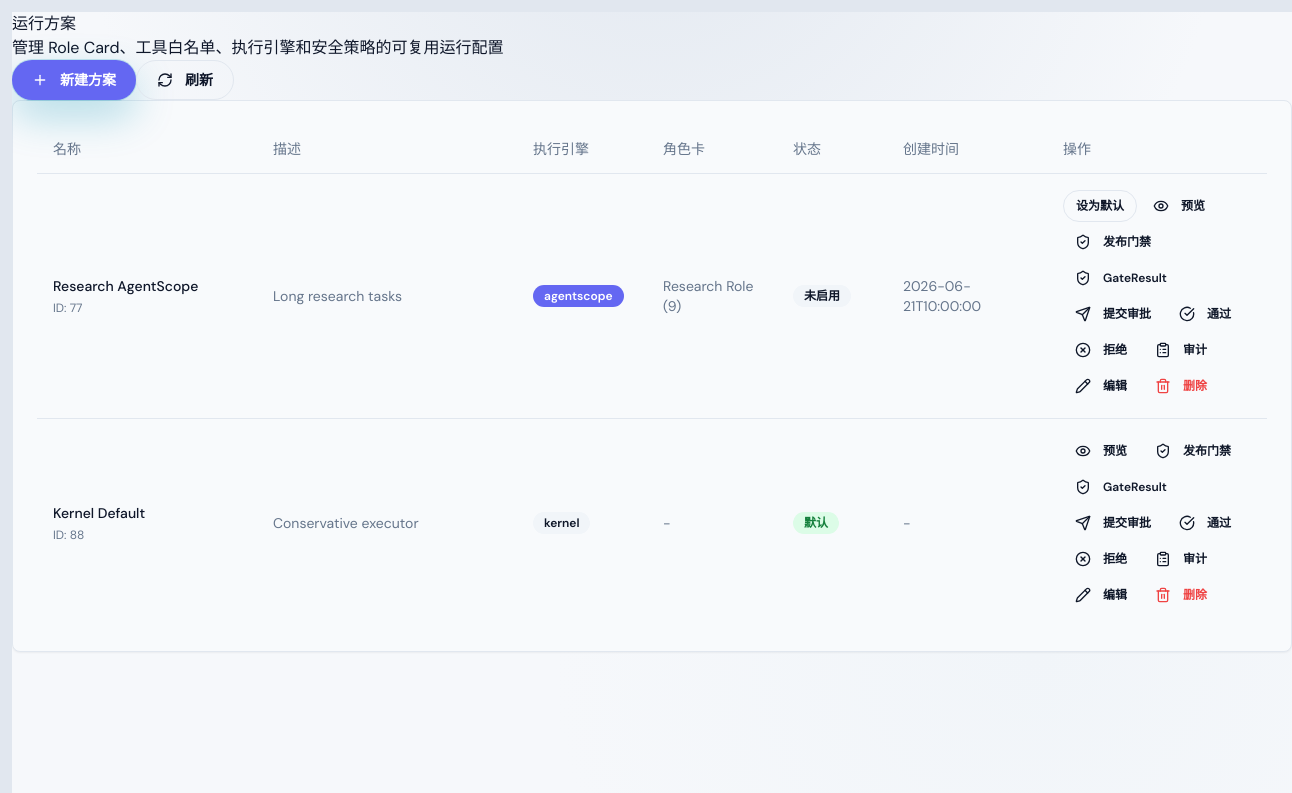
Test: RunProfilePage › runs governance approval actions and loads audit summary
Expected: the text "Research AgentScope" is shown, x1=53 y1=276 x2=198 y2=296
Click the button with aria-label "submit-approval-77": click(1113, 314) x1=1063 y1=298 x2=1163 y2=330
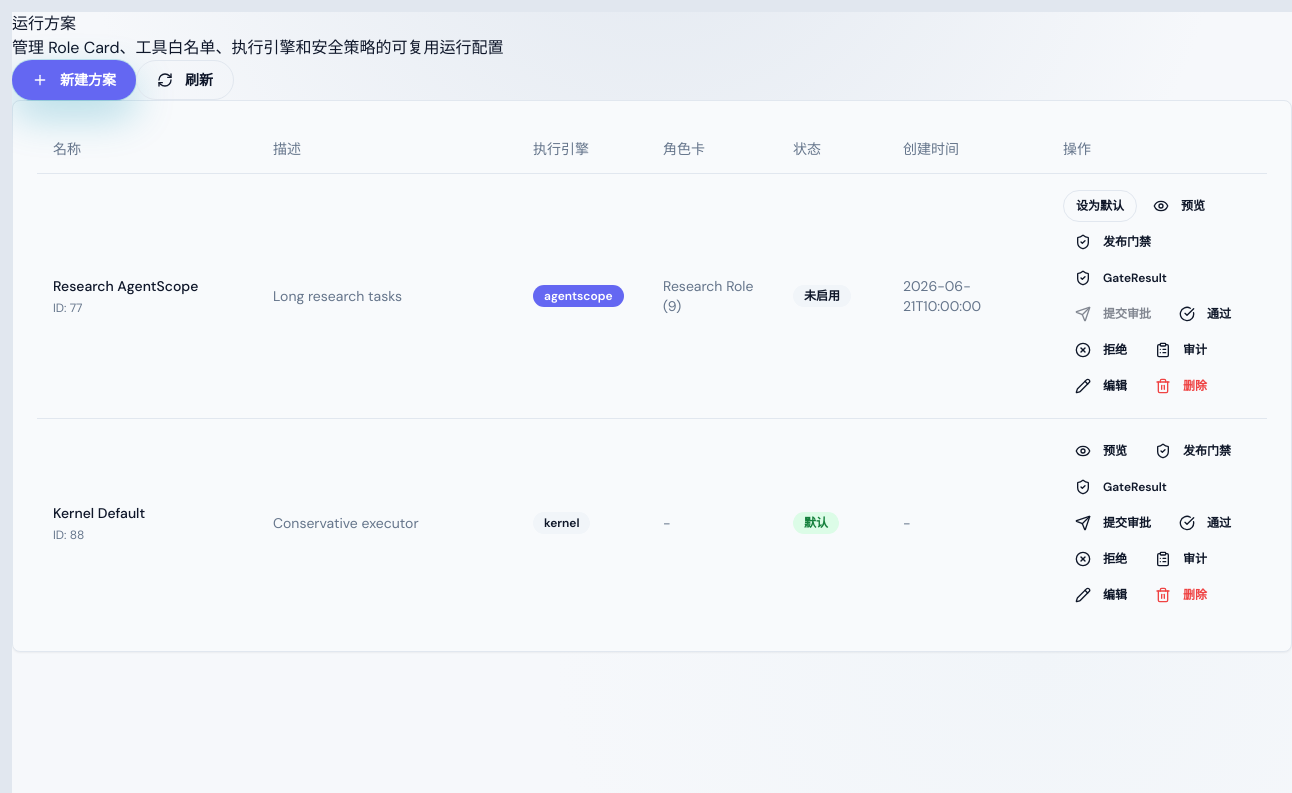
Click the button with aria-label "approve-run-profile-77": click(1205, 314) x1=1167 y1=298 x2=1243 y2=330
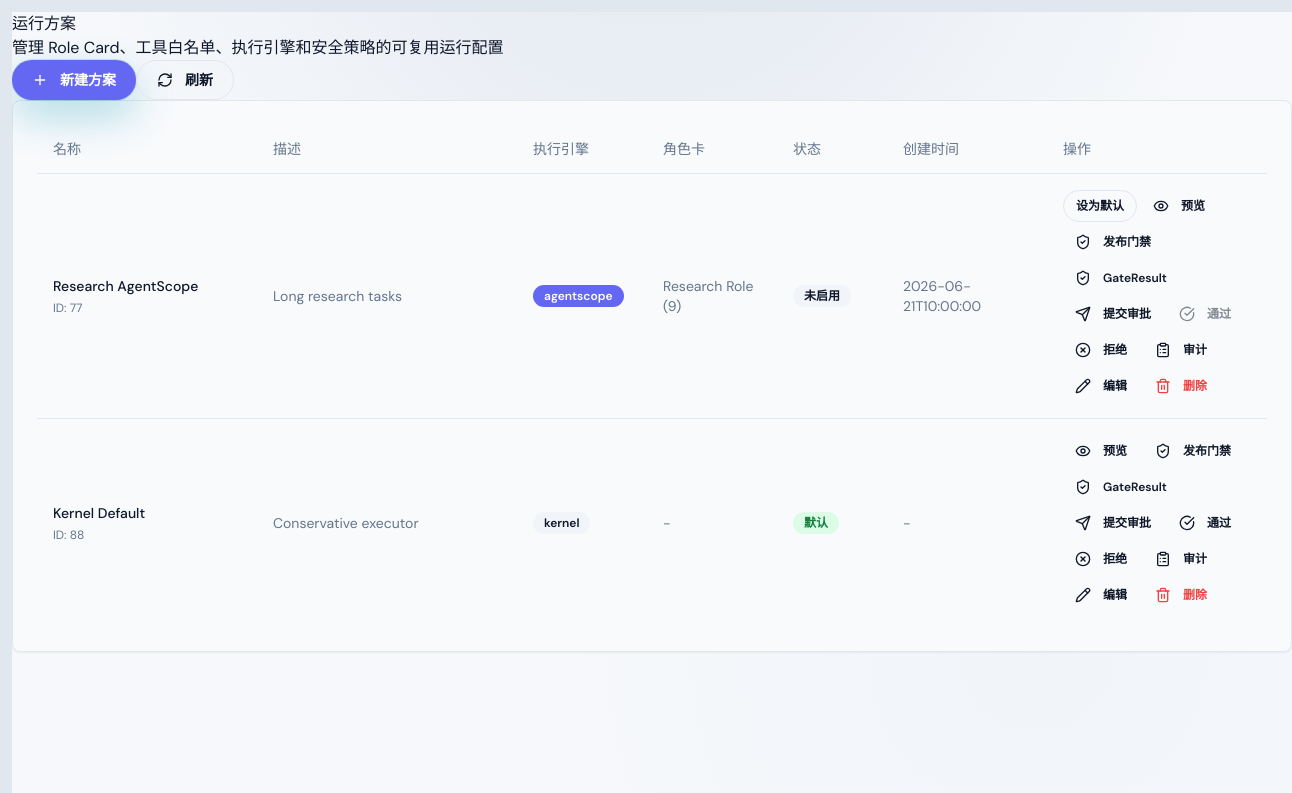
Click the button with aria-label "reject-run-profile-77": click(1101, 350) x1=1063 y1=334 x2=1139 y2=366
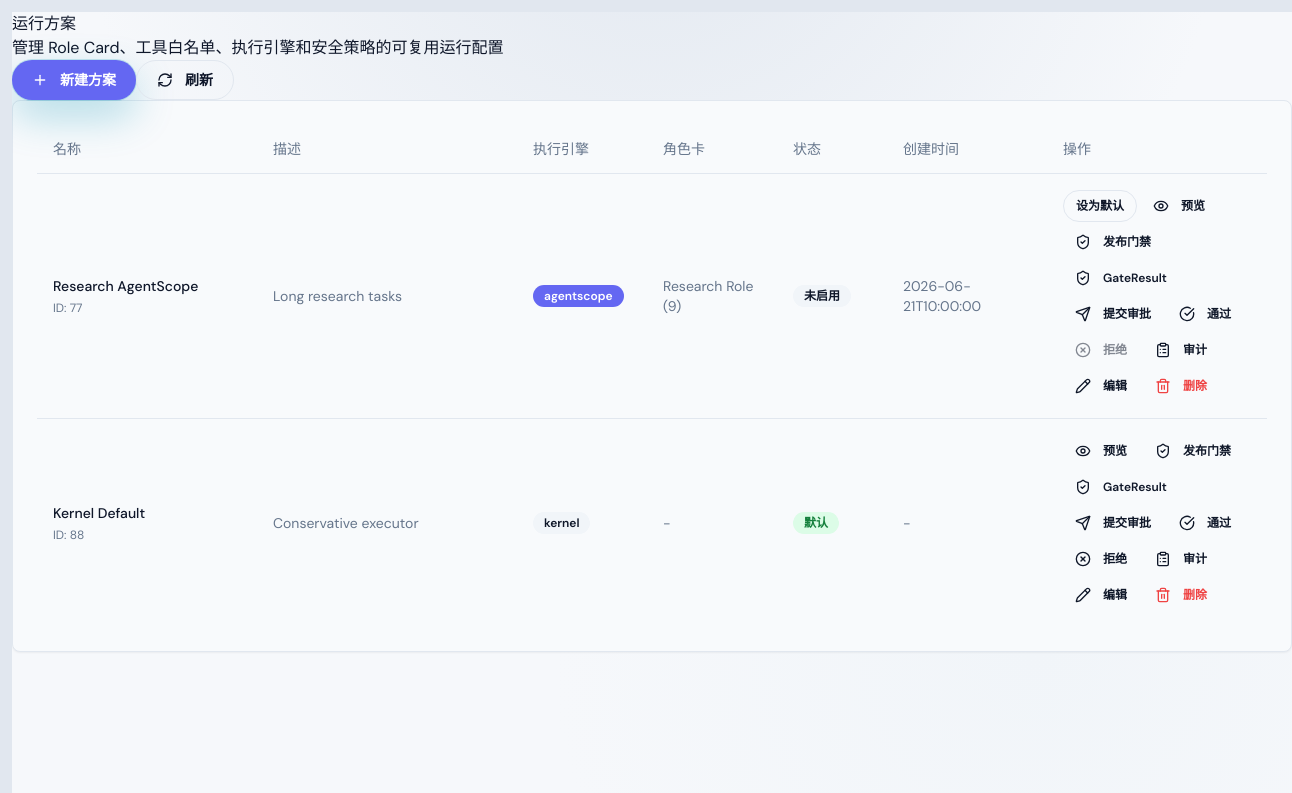
Click the button with aria-label "audit-summary-77": click(1181, 350) x1=1143 y1=334 x2=1219 y2=366
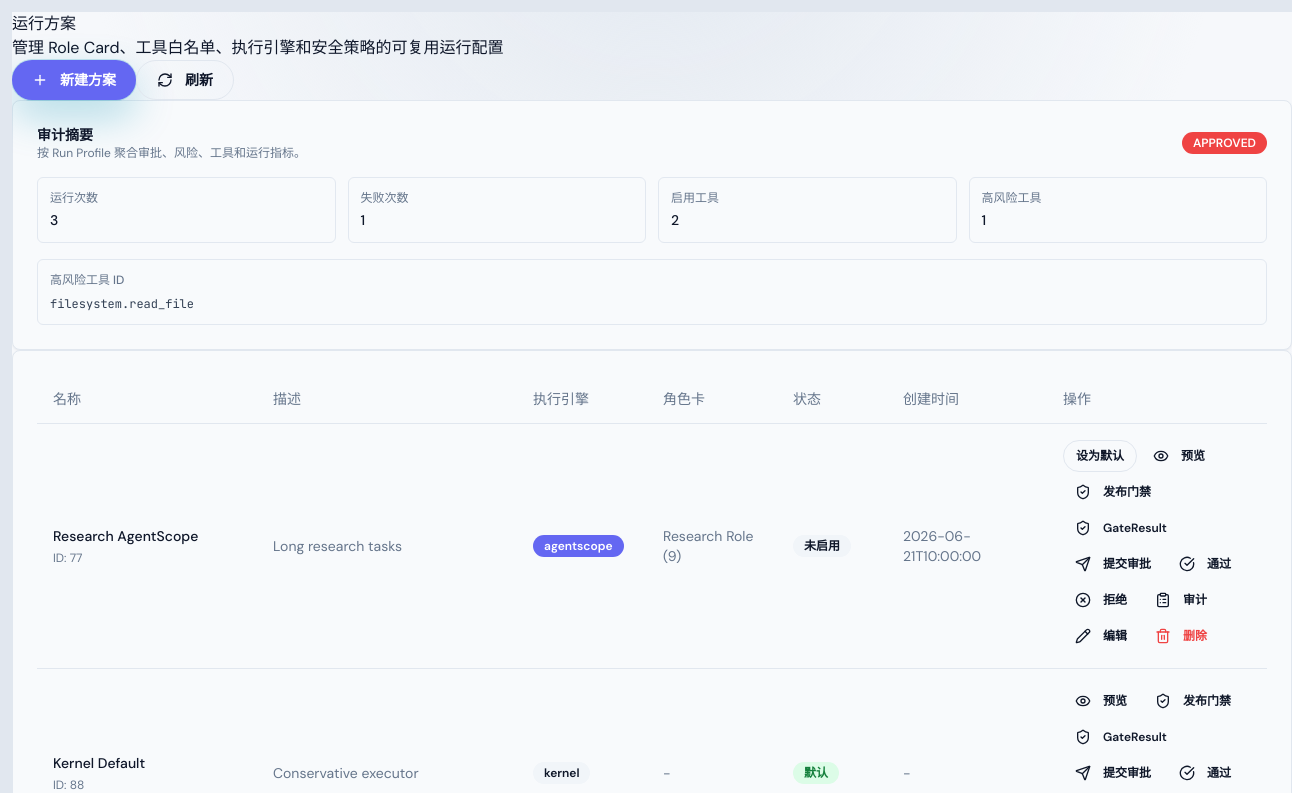
Result: the text "filesystem.read_file" is shown at x1=50 y1=296 x2=194 y2=312
Result: the text "APPROVED" is shown at x1=1182 y1=132 x2=1267 y2=154
